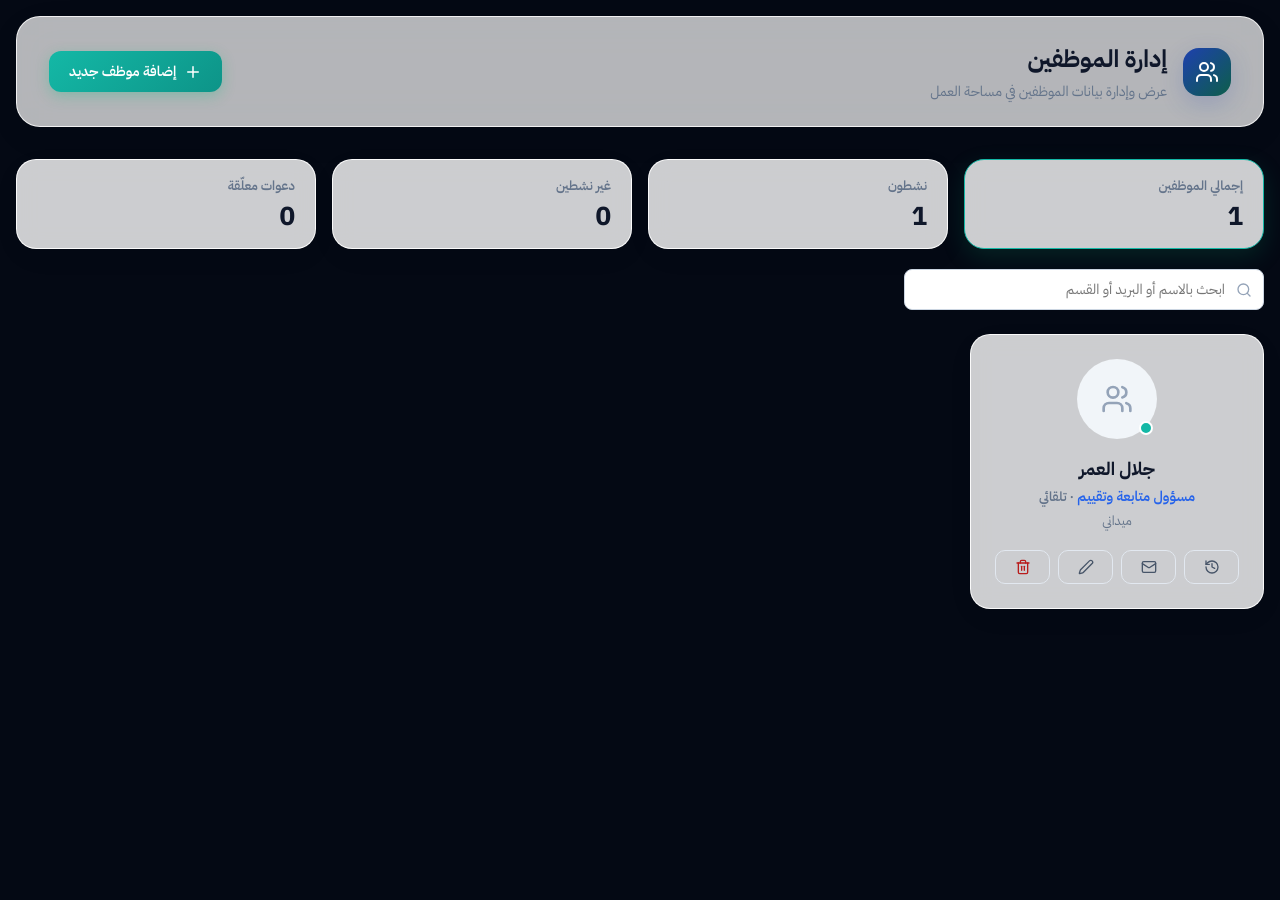
Test: employee form: job category › editing: an unchanged role is NOT re-sent (it would pin it as manual); a changed role is
Later steps or results of the test are not shown.
Click the button named "تعديل جلال العمر" at (1086, 567), box [1058,550,1113,584]
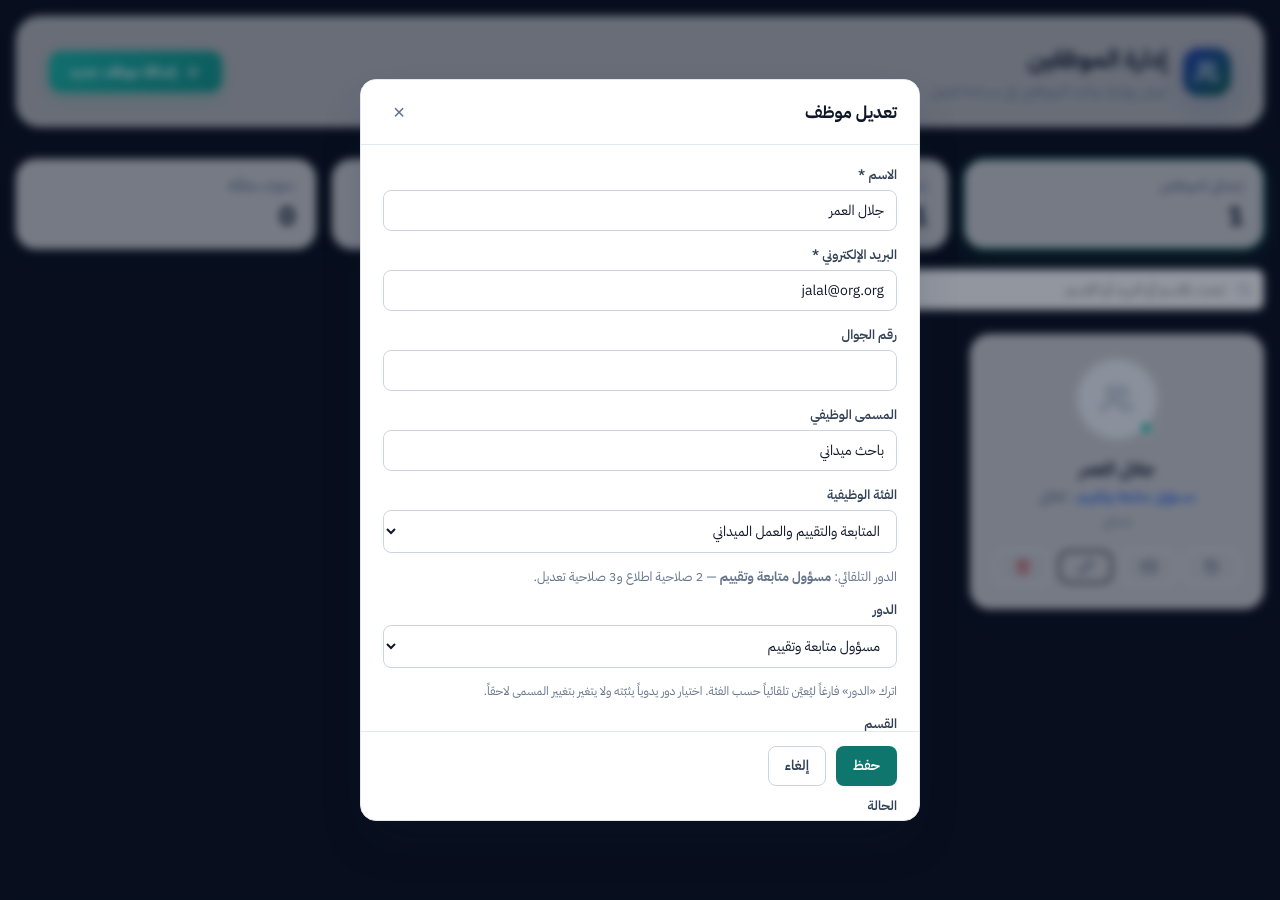
expect the field labelled "المسمى الوظيفي" holds "باحث ميداني": met, box [383,430,897,471]
Select "الإدارة والإشراف على المشاريع" in the dropdown labelled "الفئة الوظيفية" at (640, 532), box [383,510,897,553]
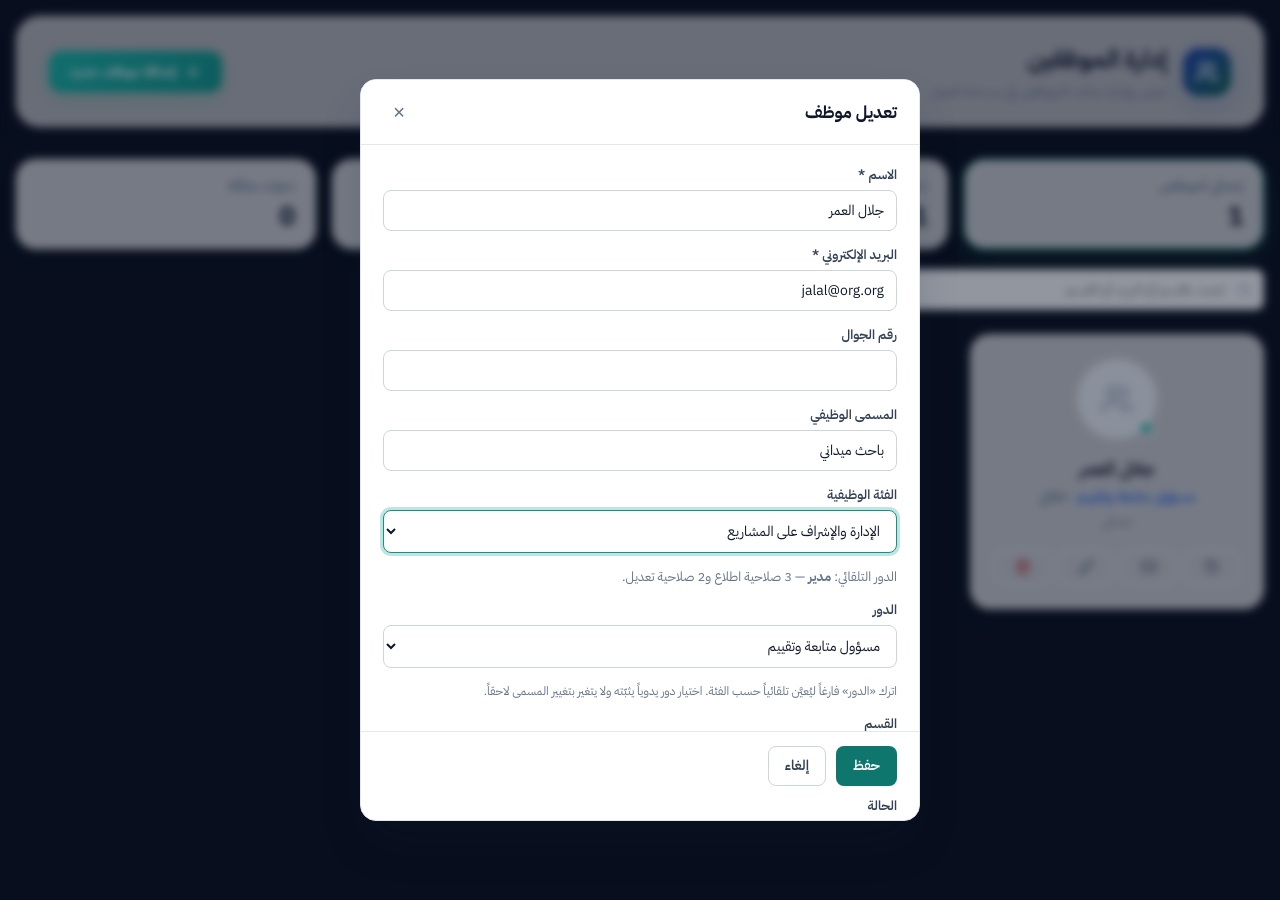
Click the button "حفظ" at (867, 766), box [836,746,897,786]
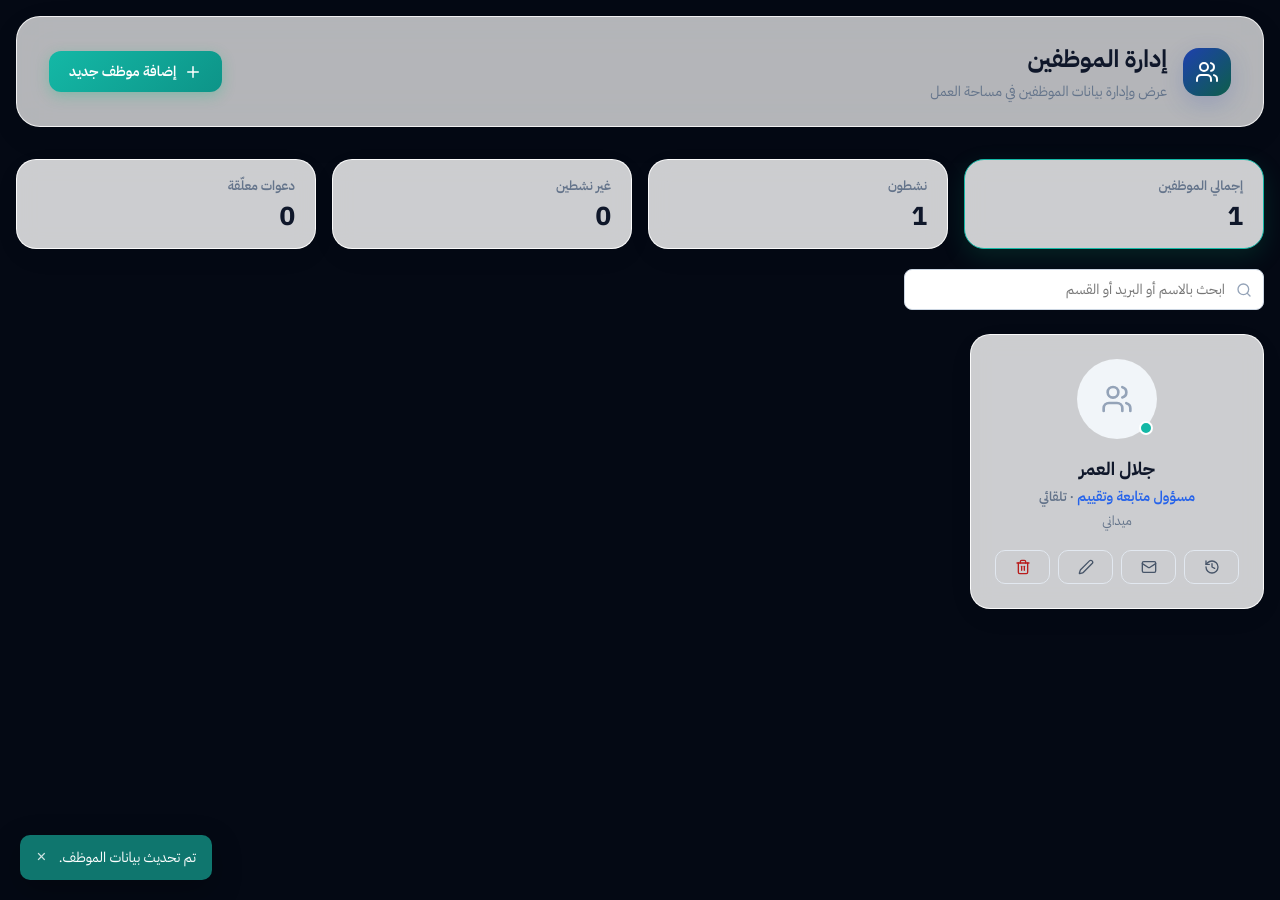
expect the dialog is gone: met
